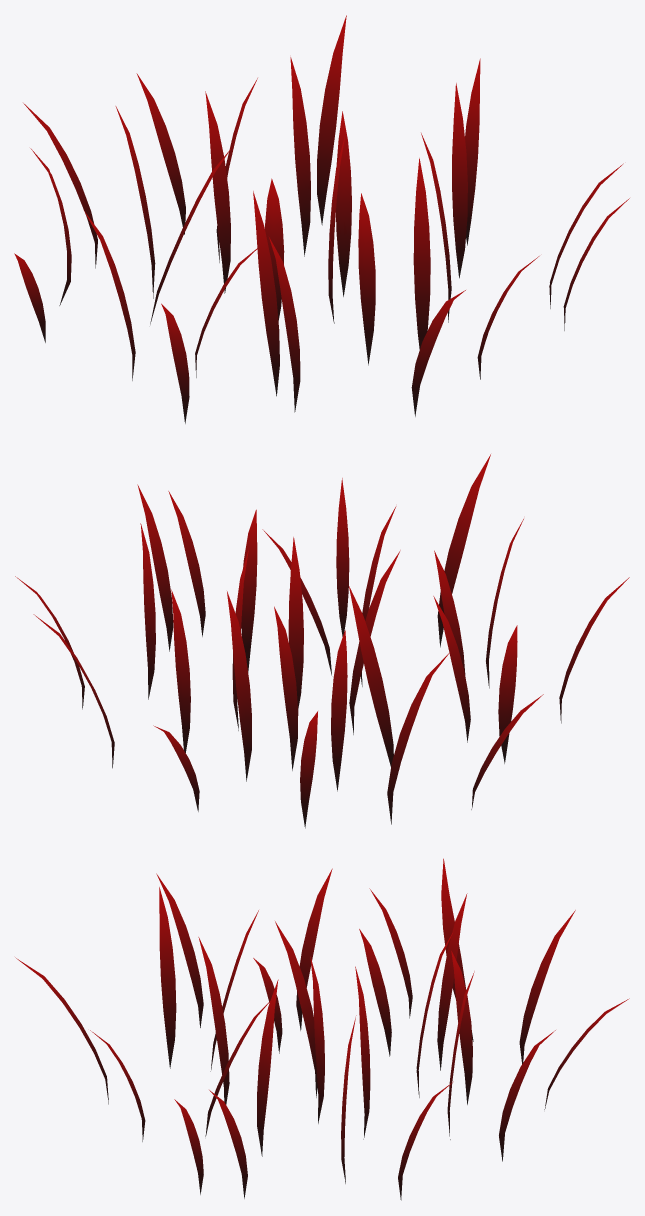
The model's file is Grass.fbx.
3 renders of one model, top to bottom at view 1: azimuth 30°, elevation 25°; view 2: azimuth 150°, elevation 25°; view 3: azimuth 270°, elevation 25°, orthographic. The views are drawn at different scales.
Parts seen in each view (by area): view 1: Grass; view 2: Grass; view 3: Grass.
Boxes of the visible parts, box(x1,y1,x2,y2) form: Grass: box(14, 15, 629, 423); Grass: box(15, 454, 629, 828); Grass: box(15, 858, 629, 1200).
Size of the model in its own units: 3.39 by 1.24 by 3.89.
